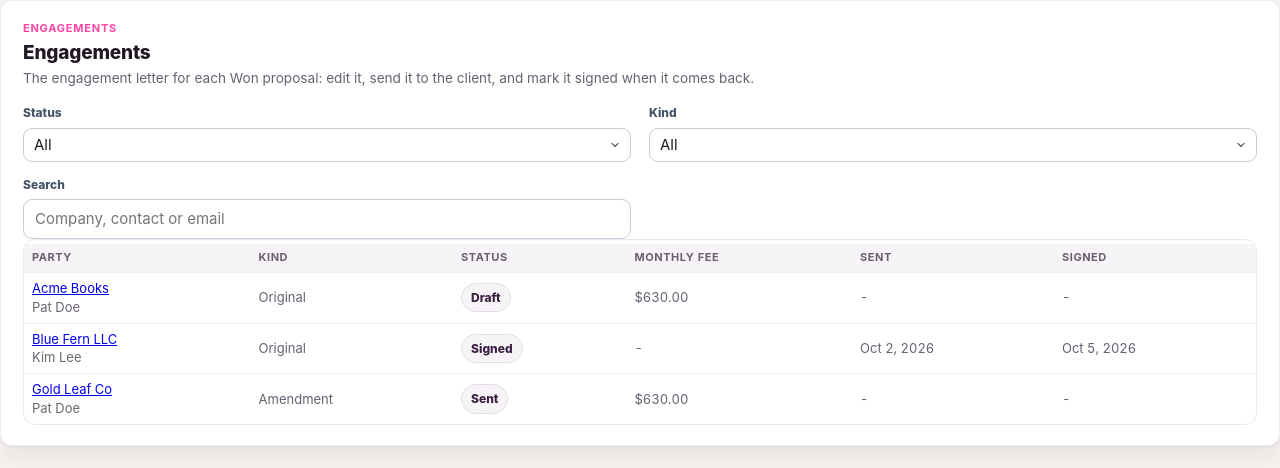
Test: the Engagements list › filters by kind
Expected: the link "Gold Leaf Co" is shown, [32,381,112,397]
Select "Amendment" in the dropdown named "Kind filter": (953, 145) [649,128,1257,162]
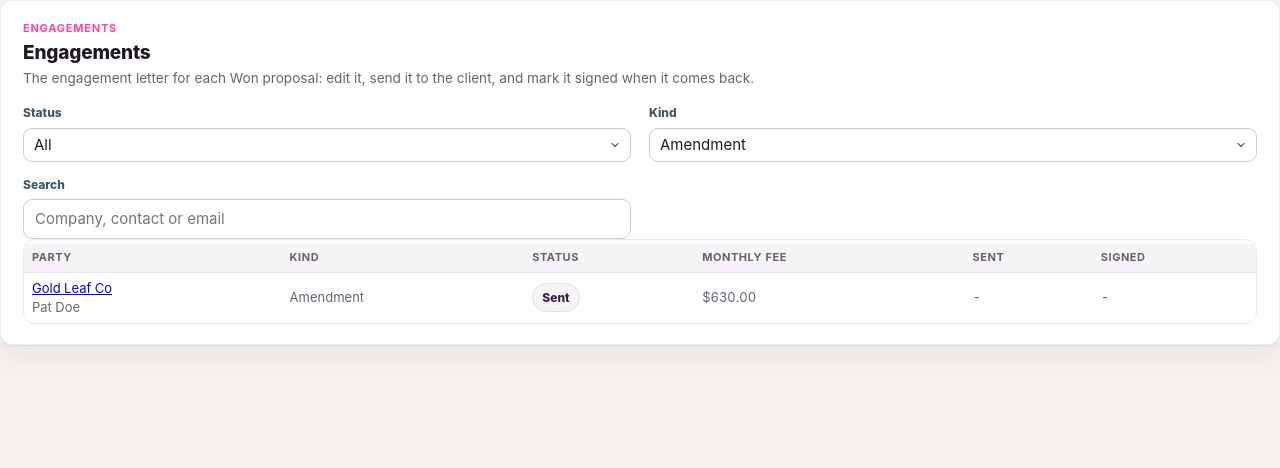
Expected: the link "Gold Leaf Co" is shown, [32,280,112,296]
Result: the link "Acme Books" is gone
Result: the link "Blue Fern LLC" is gone
Select "Original" in the dropdown named "Kind filter": (953, 145) [649,128,1257,162]
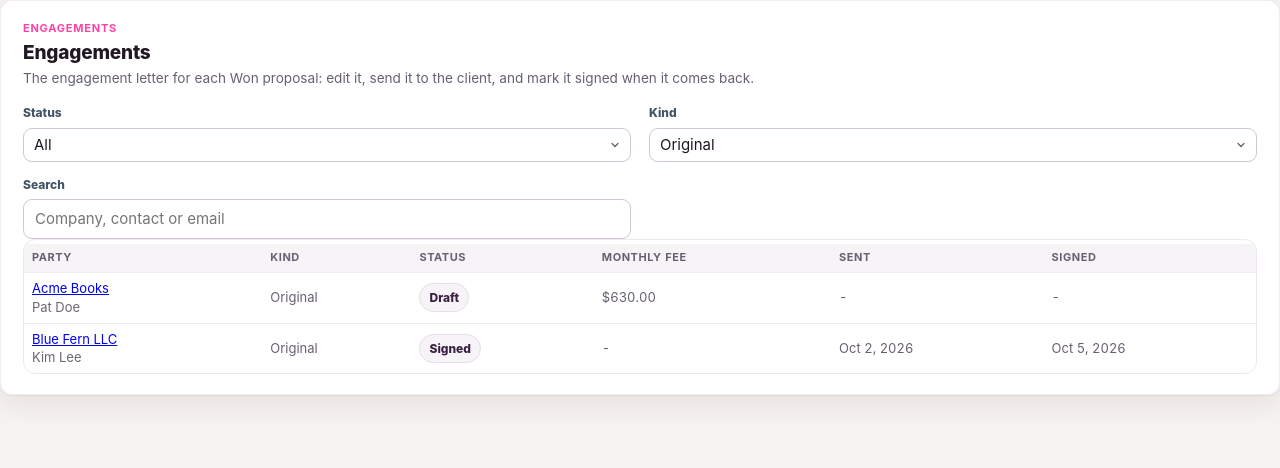
Result: the link "Gold Leaf Co" is gone
Result: the link "Acme Books" is shown at [32,280,109,296]
Both filters apply together.
Select "Signed" in the dropdown named "Status filter": (327, 145) [23,128,631,162]
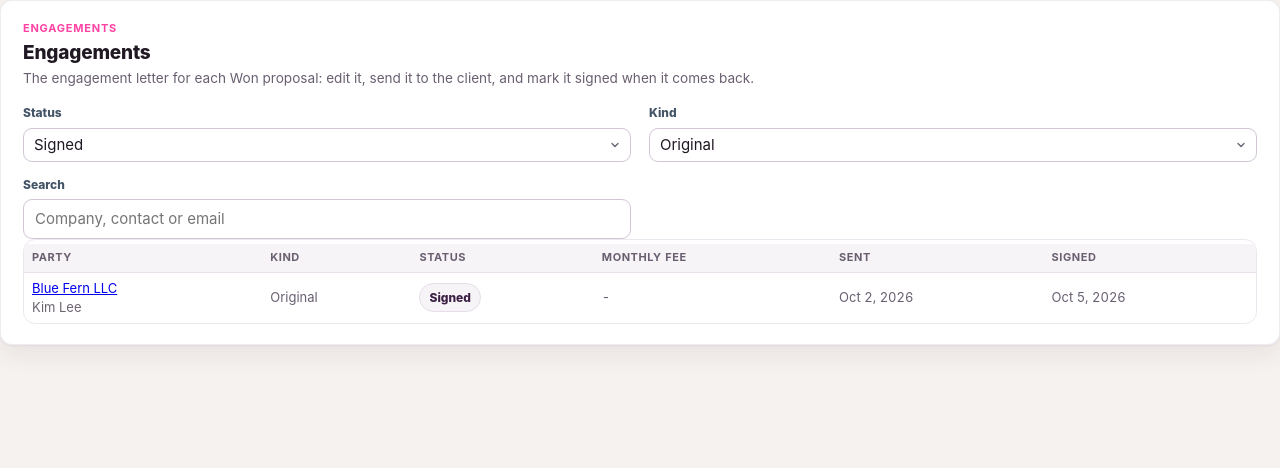
Result: the link "Blue Fern LLC" is shown at [32,280,117,296]
Result: the link "Acme Books" is gone
